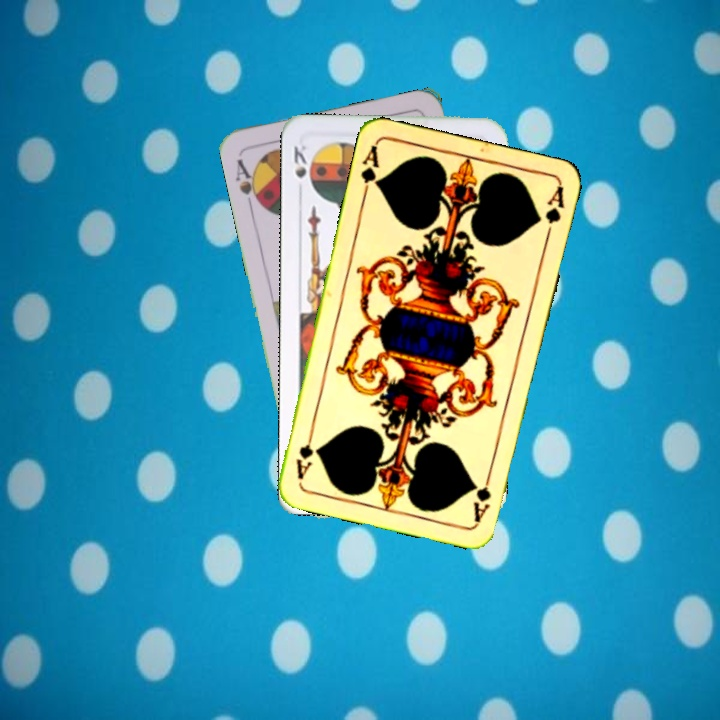GA: (357, 141, 383, 200), (469, 466, 494, 524)
SA: (231, 155, 265, 211)
SK: (290, 140, 310, 181)
